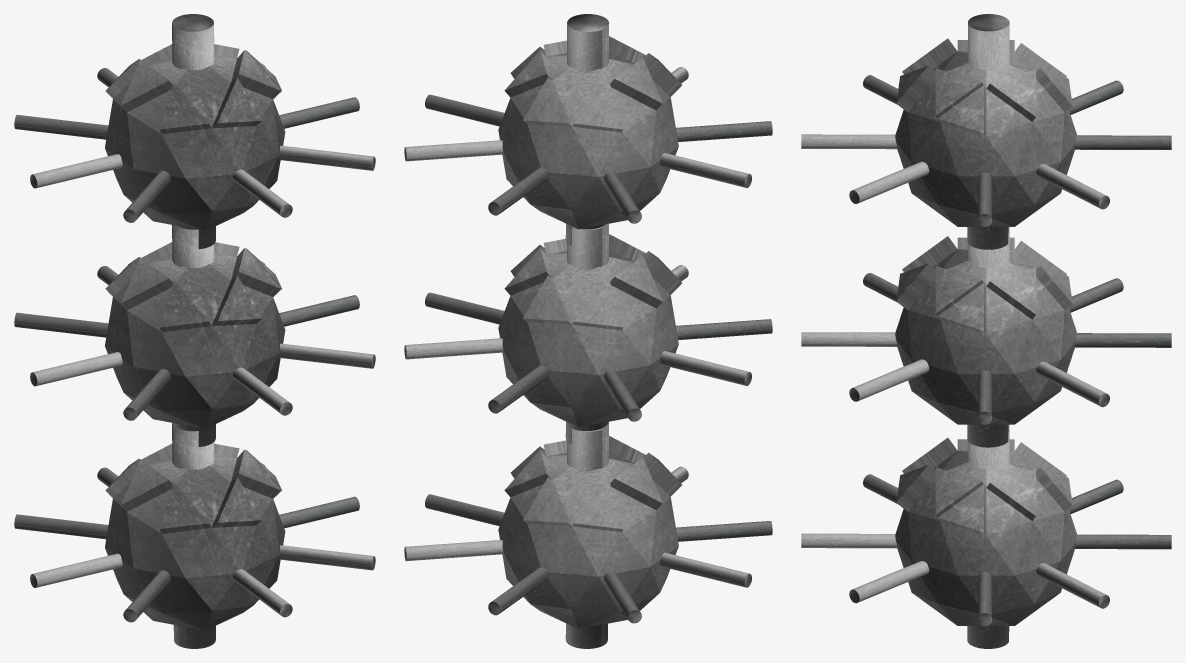
File: pieza24.fbx
3 views of the same model, side by side, from view 1: azimuth 30°, elevation 25°; view 2: azimuth 150°, elevation 25°; view 3: azimuth 270°, elevation 25° (orthographic).
Visible parts, largest first — view 1: Icosphere.001; view 2: Icosphere.001; view 3: Icosphere.001.
Part boxes in pixels (x1,y1,x2,y2): Icosphere.001: [14, 14, 375, 648]; Icosphere.001: [404, 14, 772, 648]; Icosphere.001: [801, 14, 1171, 648].
Size of the model in its own units: 175 by 322 by 175.
Materials: 18 (18 with a texture image).
